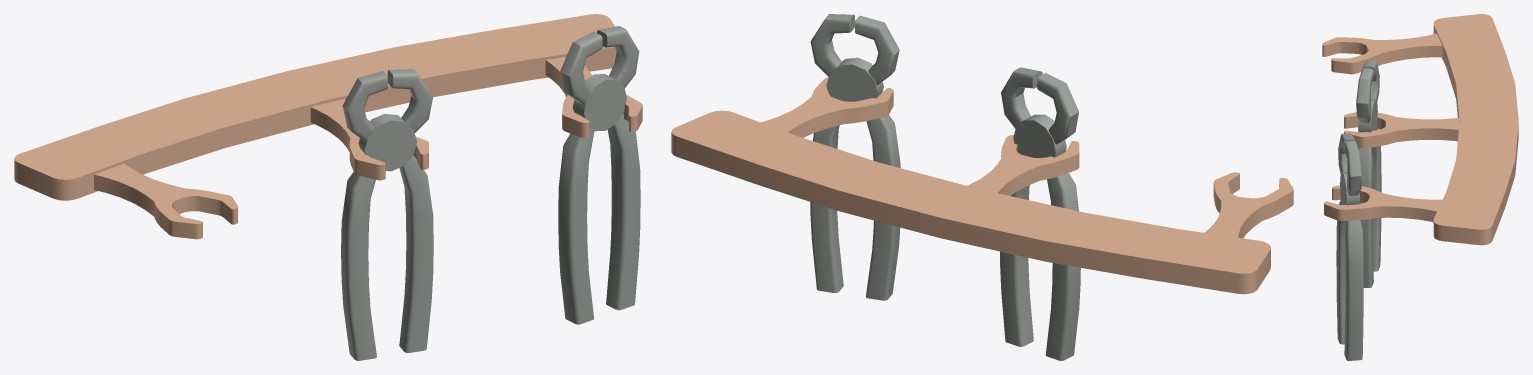
File: toolholder.fbx
3 renders of one model, left to right at view 1: azimuth 30°, elevation 25°; view 2: azimuth 150°, elevation 25°; view 3: azimuth 270°, elevation 25°, orthographic. The views are drawn at different scales.
Parts seen in each view (by area): view 1: Plane.003; view 2: Plane.003; view 3: Plane.003.
Boxes of the visible parts, <box> form: Plane.003: <box>14,14,642,360</box>; Plane.003: <box>671,14,1293,360</box>; Plane.003: <box>1322,14,1518,360</box>.
Size of the model in its own units: 63.49 by 28.57 by 24.46.
Materials: 1 (1 with a texture image).
